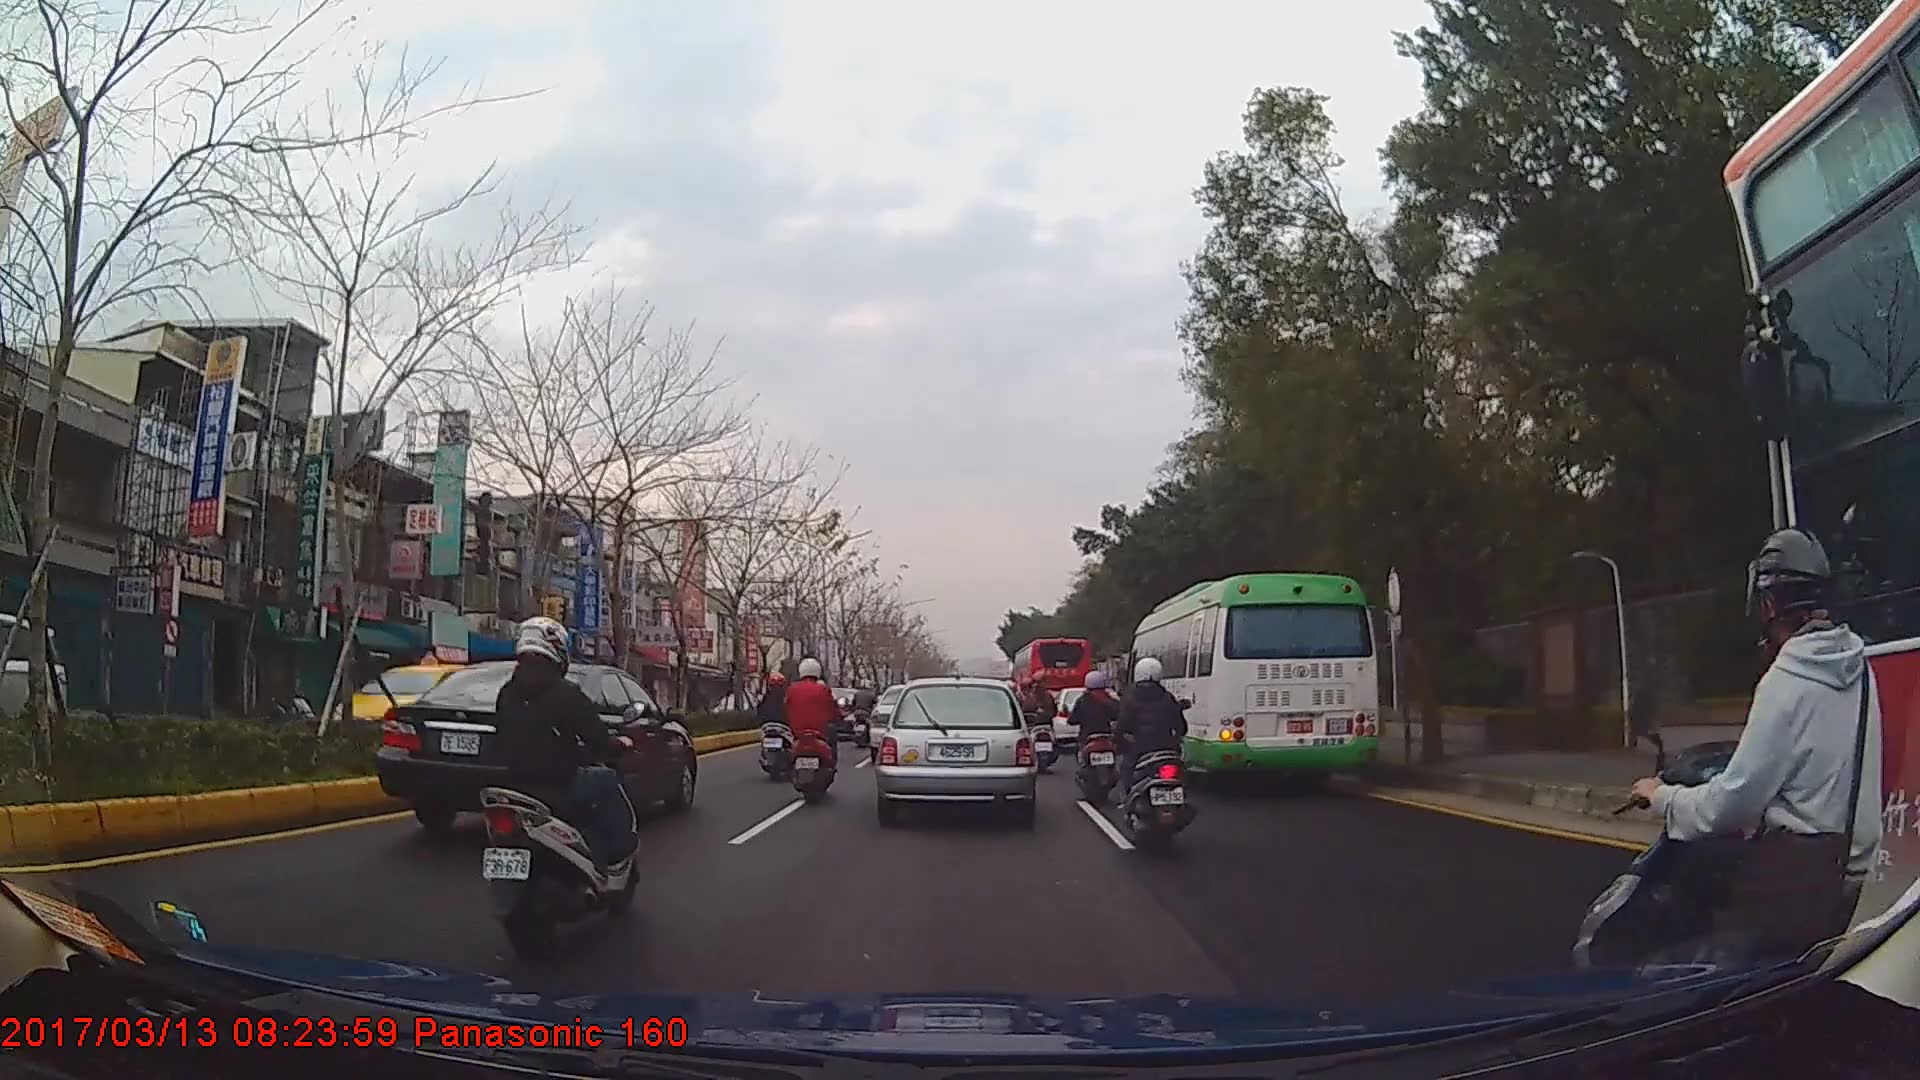rider: (1570, 518, 1920, 1021), (478, 610, 645, 950), (1117, 656, 1199, 858), (1066, 667, 1125, 806), (783, 656, 839, 803), (758, 671, 798, 781), (1018, 670, 1058, 774), (851, 679, 878, 748)
vehicle: (1123, 572, 1382, 796), (377, 658, 697, 837), (876, 676, 1034, 824), (0, 611, 67, 757), (1010, 633, 1094, 729)
